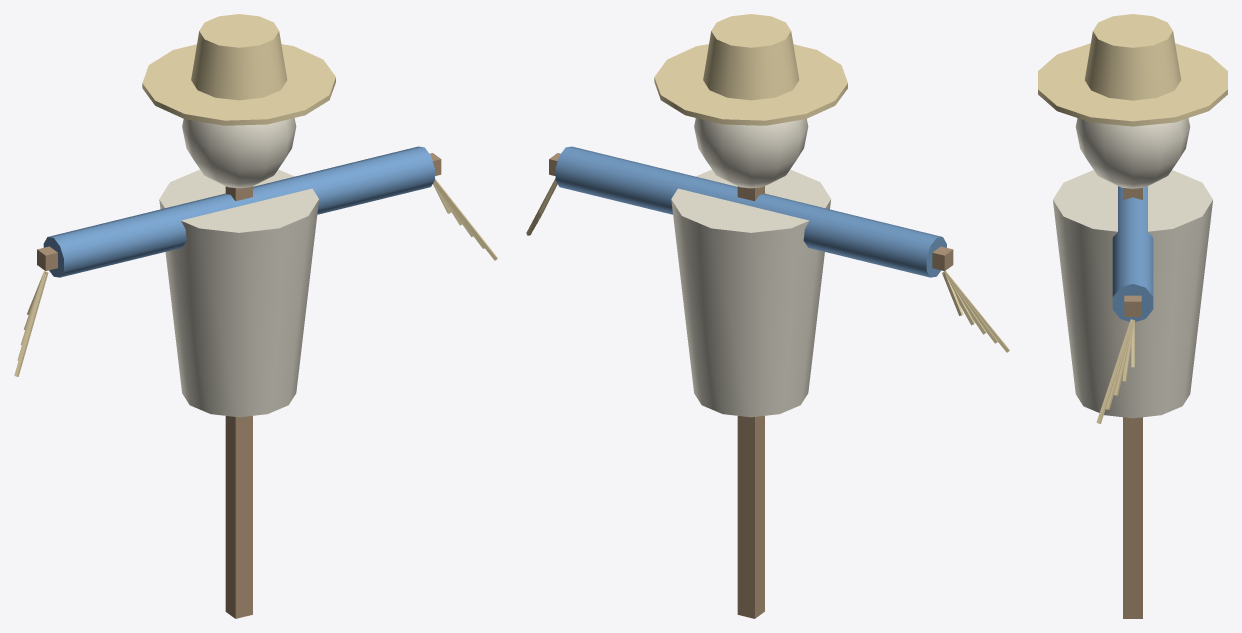
Rendered from scarecrow.glb.
3 renders of one model, left to right at view 1: azimuth 30°, elevation 25°; view 2: azimuth 150°, elevation 25°; view 3: azimuth 270°, elevation 25°, orthographic.
Visible parts, largest first — view 1: Scarecrow; view 2: Scarecrow; view 3: Scarecrow.
Boxes of the visible parts, x1,y1,x2,y2 form: Scarecrow: [14, 14, 497, 618]; Scarecrow: [526, 14, 1009, 618]; Scarecrow: [1038, 14, 1227, 618].
Bounding box in the file's own units: 1.95 × 2.25 × 0.663.
